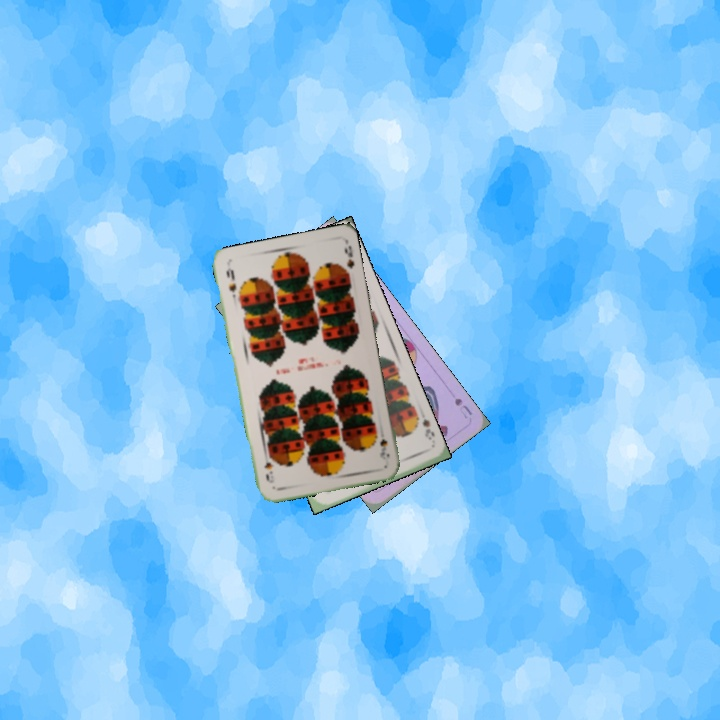S9: (409, 410, 437, 443), (222, 264, 239, 295), (376, 435, 392, 462)
SU: (450, 394, 475, 421)
